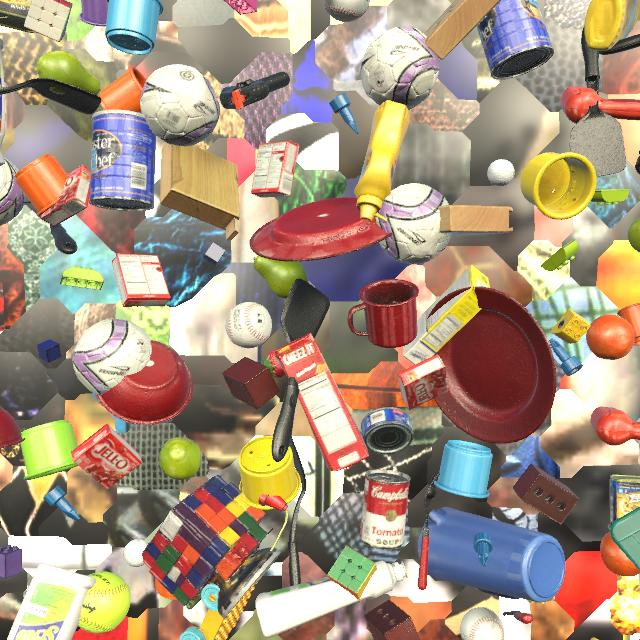ycb_002_master_chef_can: (89, 110, 156, 211), (477, 0, 554, 80)
ycb_003_cracker_box: (275, 333, 369, 472)
ycb_004_sugar_box: (403, 264, 490, 365)
ycb_005_tomato_soup_can: (360, 469, 410, 550), (637, 639, 640, 640)
ycb_006_mustard_bottle: (354, 100, 410, 222), (584, 0, 639, 51), (590, 637, 599, 640)
ycb_007_tuna_fish_can: (361, 407, 414, 455)
ycb_009_gelatin_box: (71, 423, 143, 490), (112, 253, 171, 307), (41, 165, 91, 226), (397, 354, 448, 410), (251, 141, 299, 198)
ycb_010_potted_meat_can: (608, 475, 640, 530), (0, 0, 37, 33)
ycb_012_strawberry: (263, 349, 286, 378)
ycb_016_pear: (36, 50, 101, 95), (253, 255, 309, 299), (159, 437, 201, 480), (627, 217, 640, 253)
ycb_017_orange: (586, 314, 635, 360), (600, 532, 640, 577)
